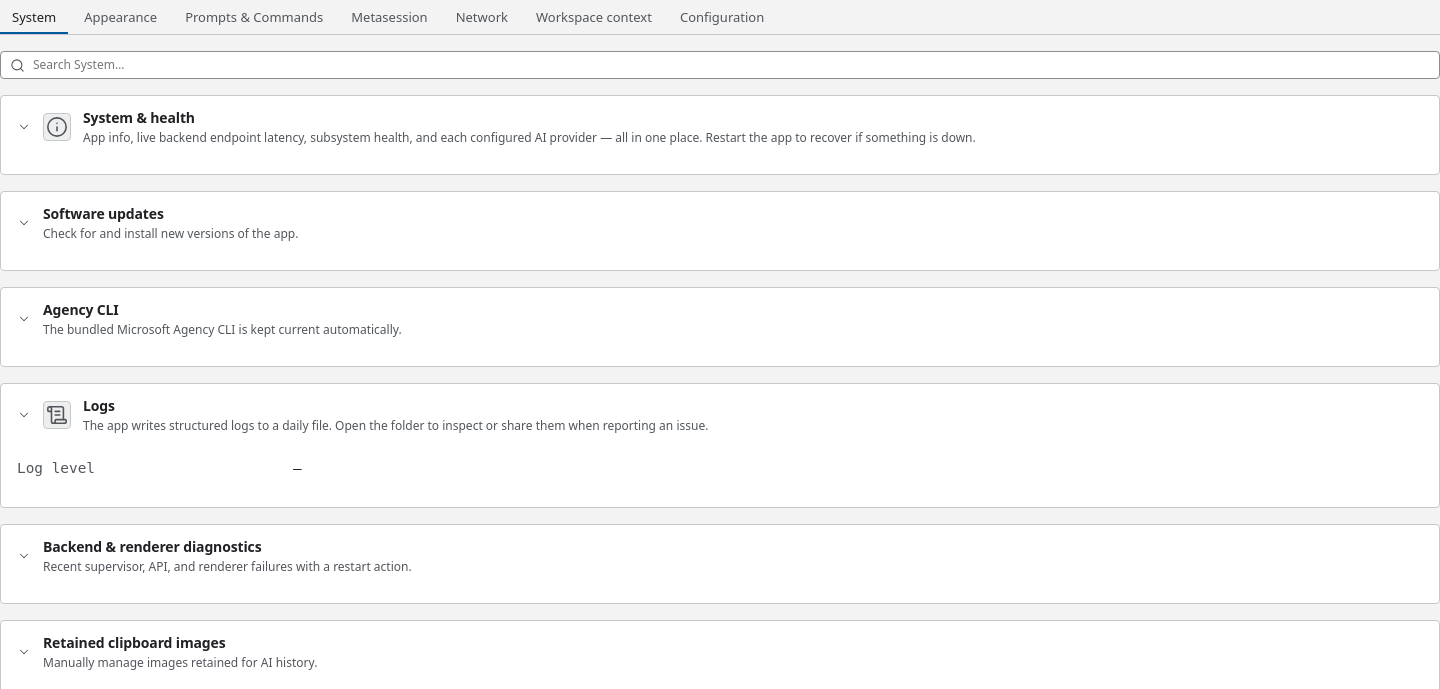
Scenario: SettingsView field accessibility › binds labels, descriptions, and unique ids for every mounted control type
Click the tab "Configuration": click(722, 17) [668,0,776,34]
(page scrolled)
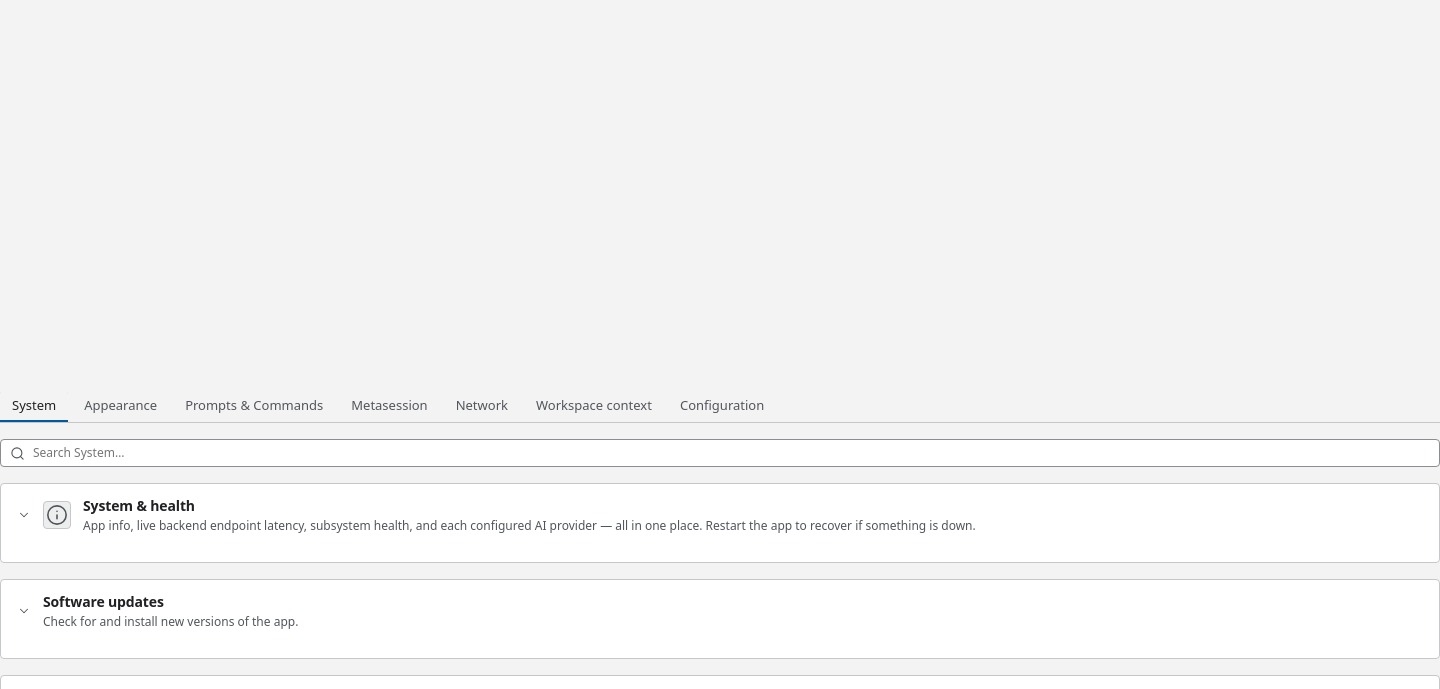
Click the tab "Configuration": click(722, 405) [668,388,776,422]
(page scrolled)
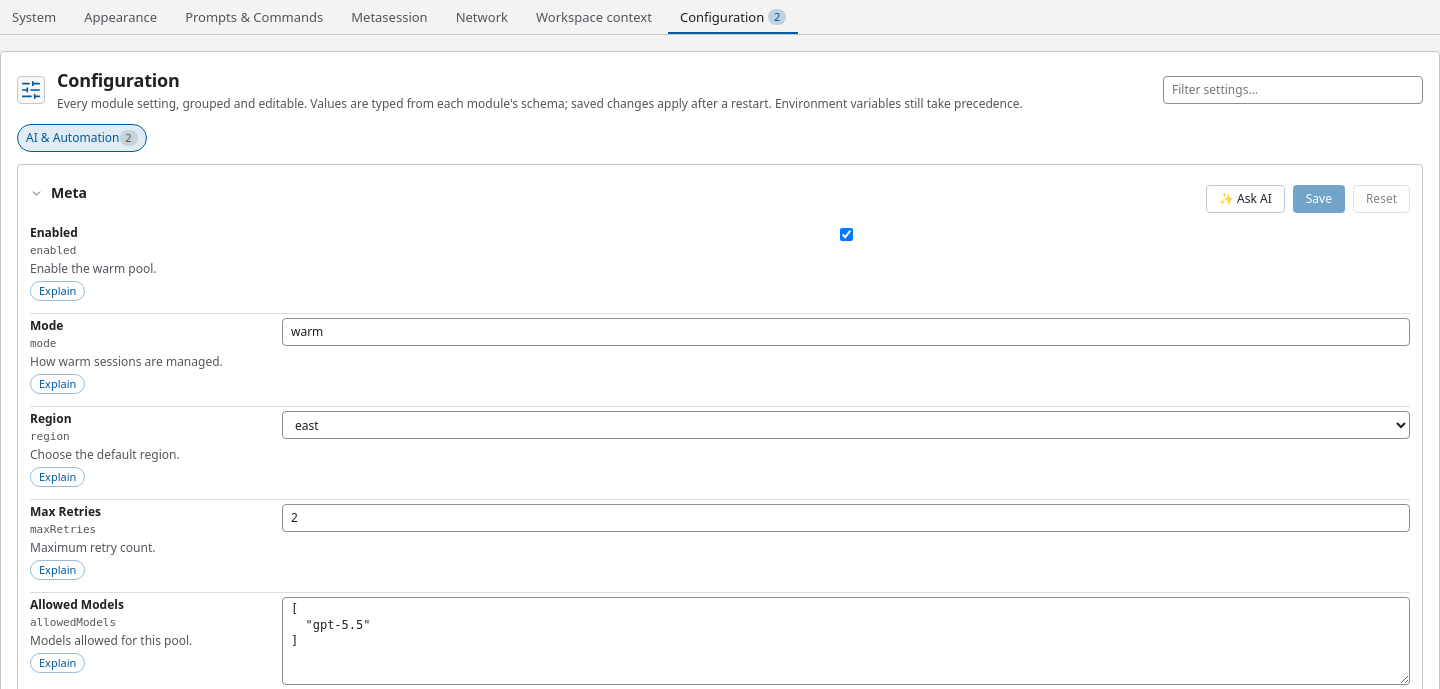
Now the number of fields labelled "Mode" is 4
